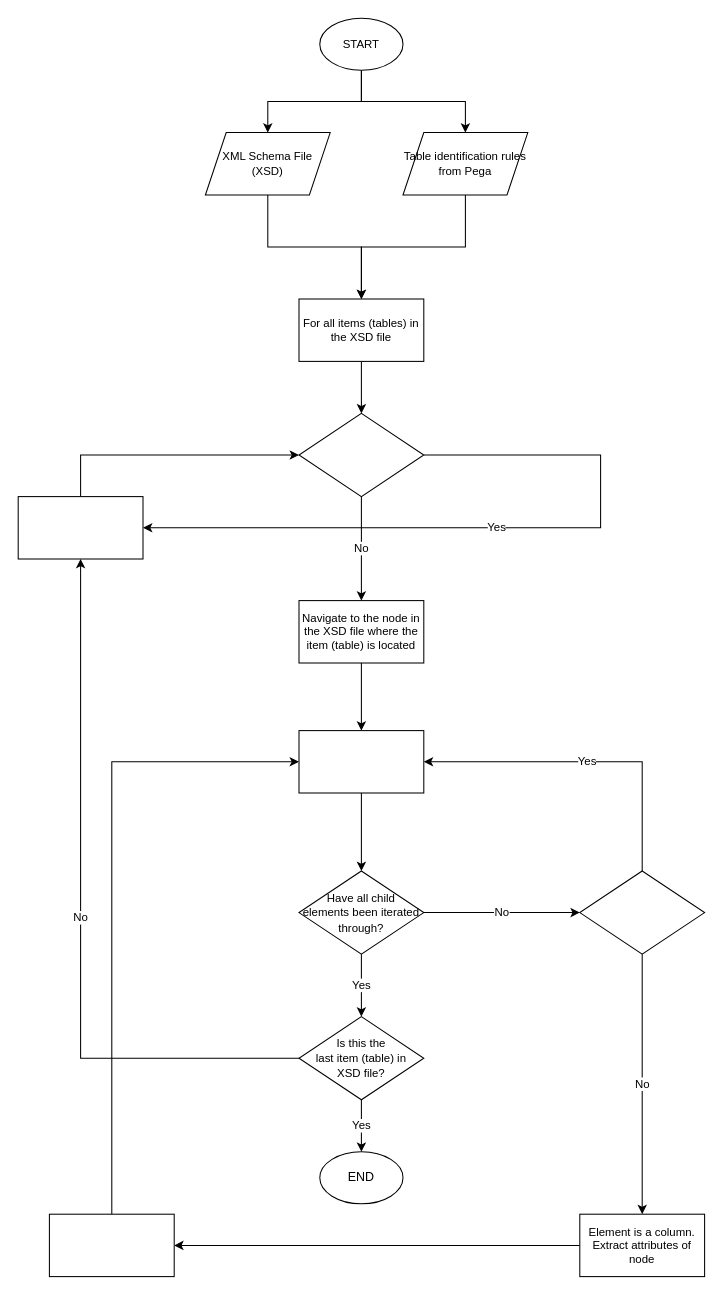
This 723x1295 diagram has some shape labels left out. The shapes that lost their labels are listed below. From the top down, each one's centre as x and y in pixels, then its label:
At [361,454]: "Is the item (table) the master table?".
At [80,527]: "Go to next item (table) in the XSD file".
At [361,761]: "Identify and iterate through all child elements in the node".
At [642,912]: "Does element have any child elements?".
At [111,1245]: "Store element name and attributes as column configuration for current sub table".
